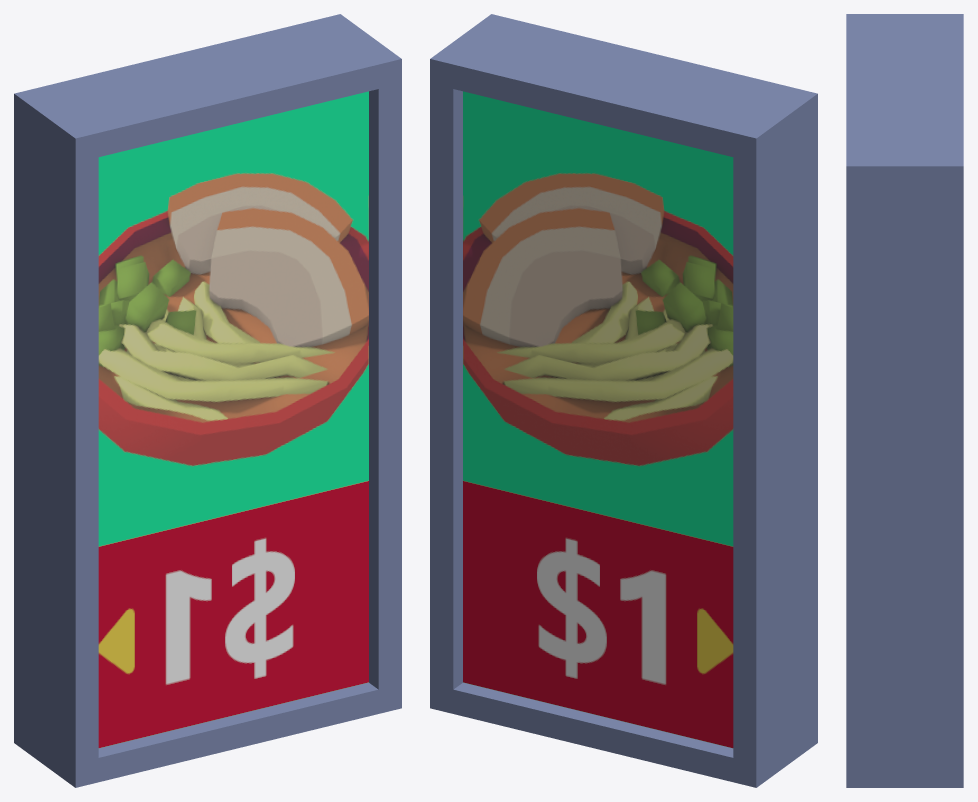
The model's file is adboard_Ramen_geo.fbx.
3 views of the same model, side by side, from view 1: azimuth 30°, elevation 25°; view 2: azimuth 150°, elevation 25°; view 3: azimuth 270°, elevation 25° (orthographic). The views are drawn at different scales.
Visible parts, largest first — view 1: adboard_Ramen_geo; view 2: adboard_Ramen_geo; view 3: adboard_Ramen_geo.
Part boxes in pixels (x1,y1,x2,y2): adboard_Ramen_geo: [14, 14, 401, 787]; adboard_Ramen_geo: [430, 14, 817, 787]; adboard_Ramen_geo: [846, 14, 963, 787].
Bounding box in the file's own units: 0.7668 × 0.2497 × 1.46.
